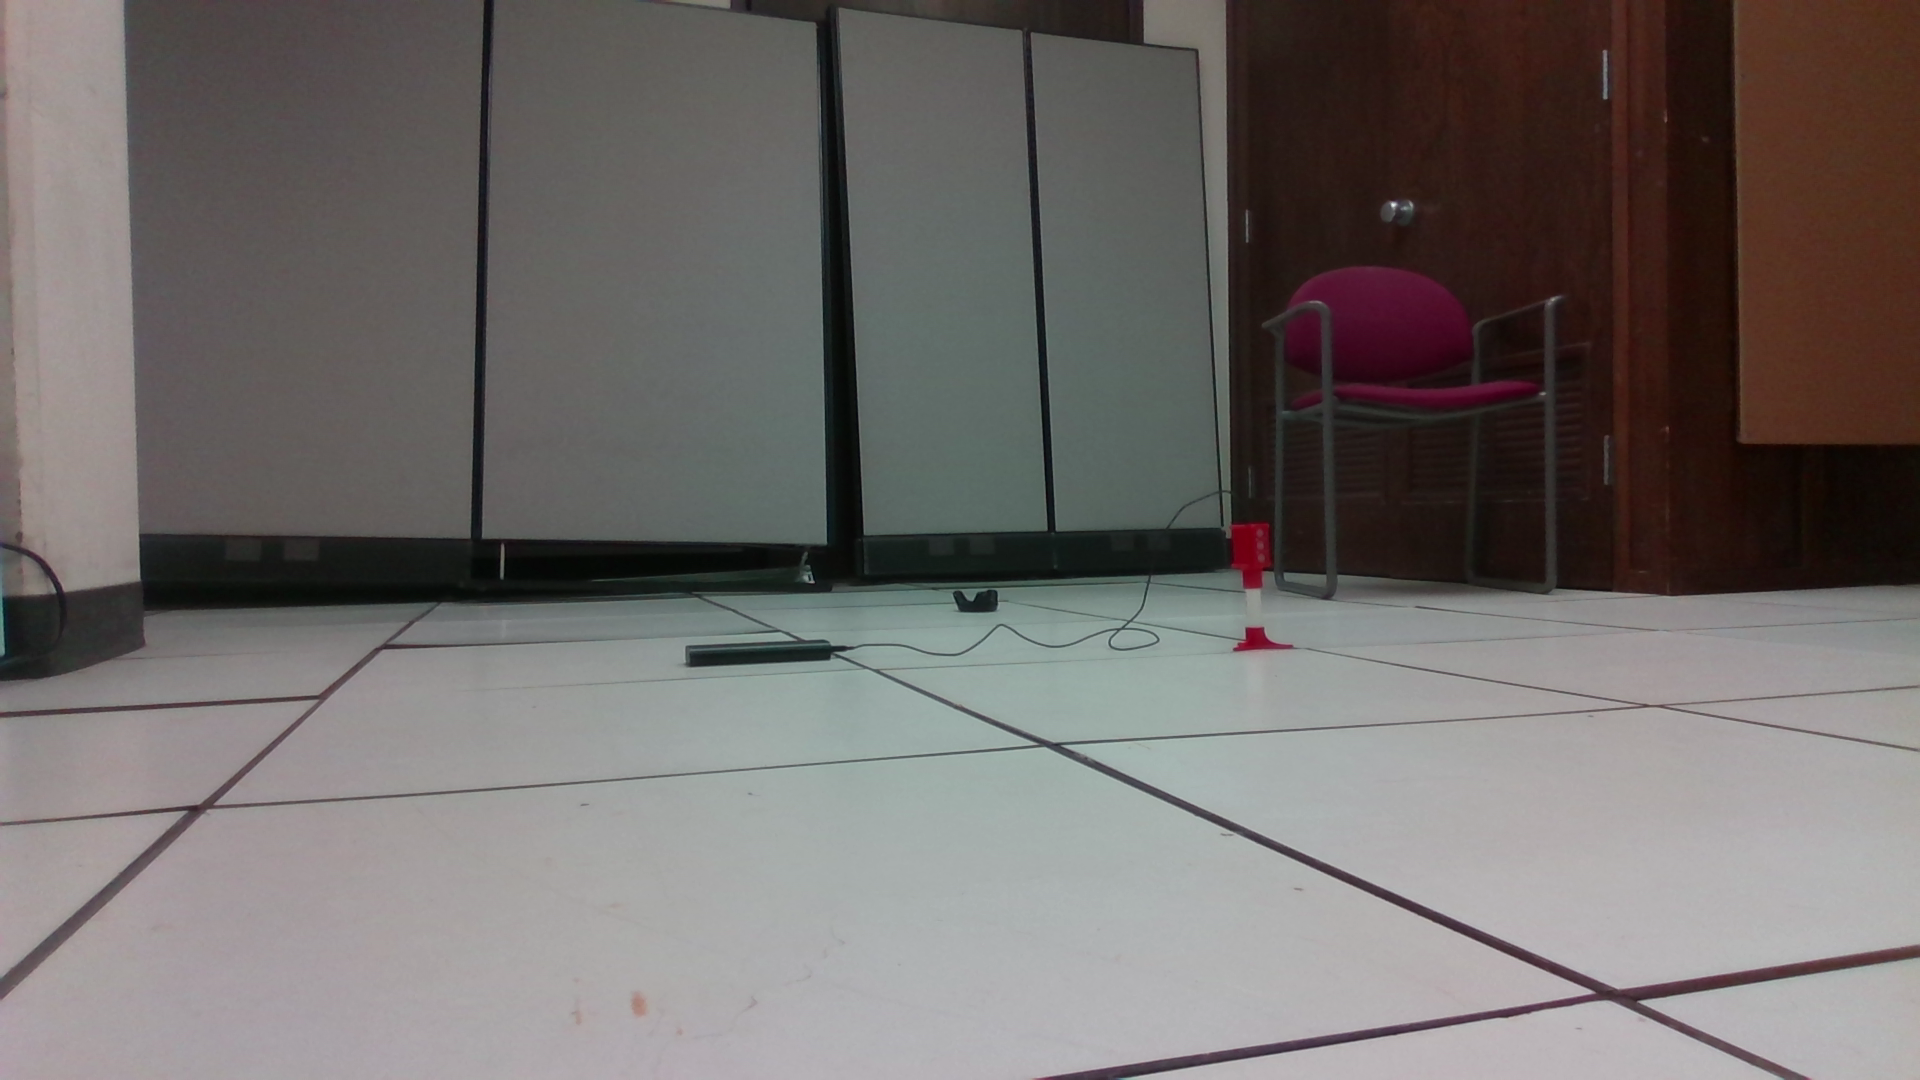stoplight: (1232, 522, 1274, 591)
